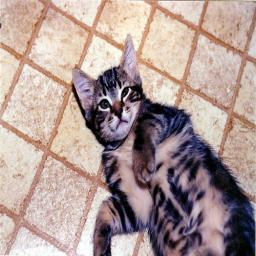catnose: (114, 108, 124, 119)
